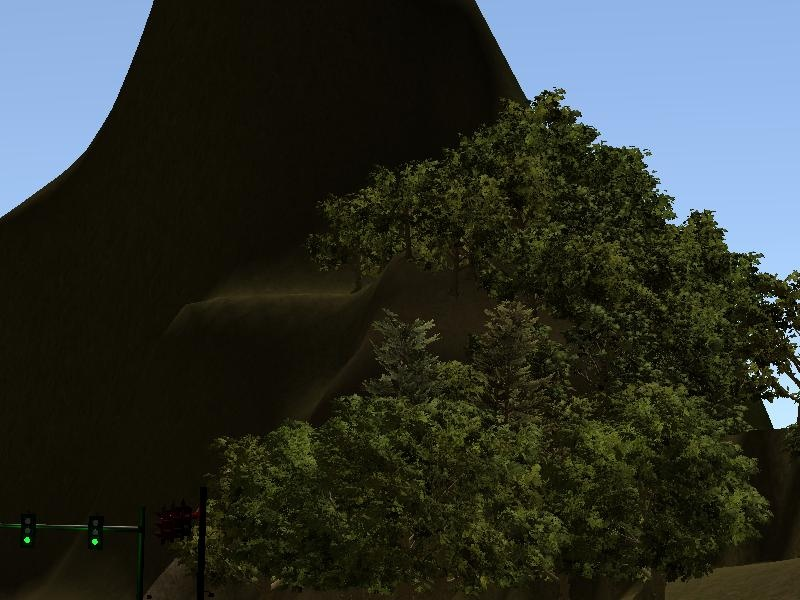Green: (87, 515, 104, 550), (20, 513, 36, 549)
